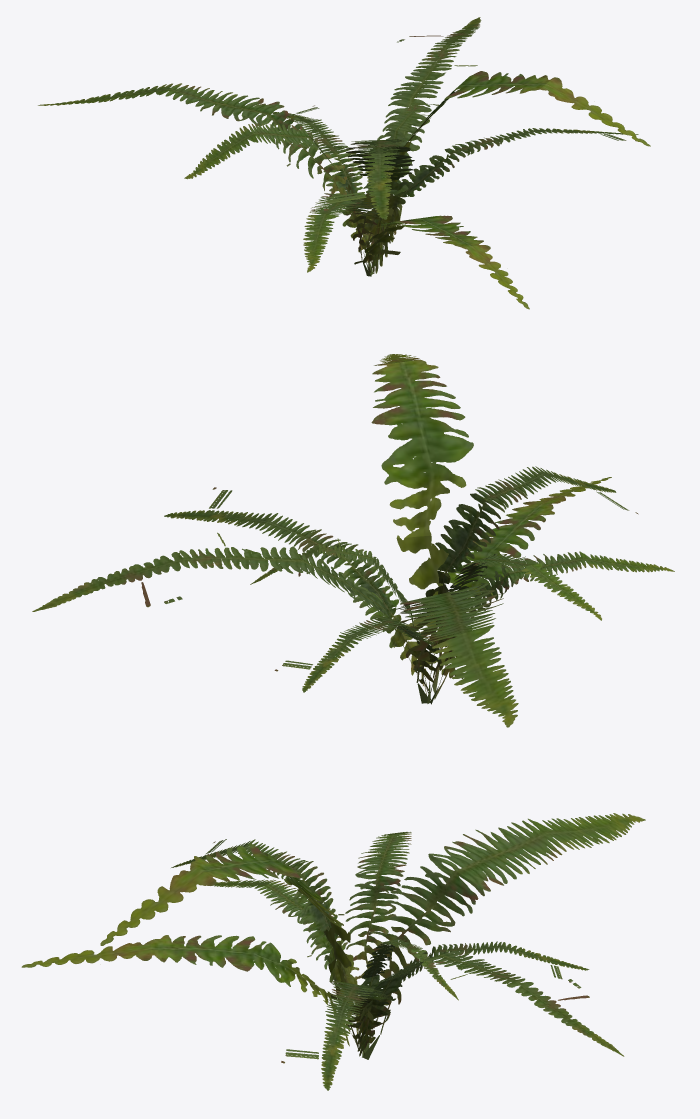
The model's file is fern-a.glb.
The picture shows the model from 3 angles, top to bottom: view 1: azimuth 30°, elevation 25°; view 2: azimuth 150°, elevation 25°; view 3: azimuth 270°, elevation 25°; orthographic projection. The views are drawn at different scales.
Visible parts, largest first — view 1: fern_11; view 2: fern_11; view 3: fern_11.
Part boxes in pixels (x1,y1,x2,y2): fern_11: (38, 17, 650, 309); fern_11: (32, 354, 674, 727); fern_11: (21, 813, 645, 1090).
Bounding box in the file's own units: 1.46 × 0.6204 × 1.55.
Materials: 1 (1 with a texture image).
